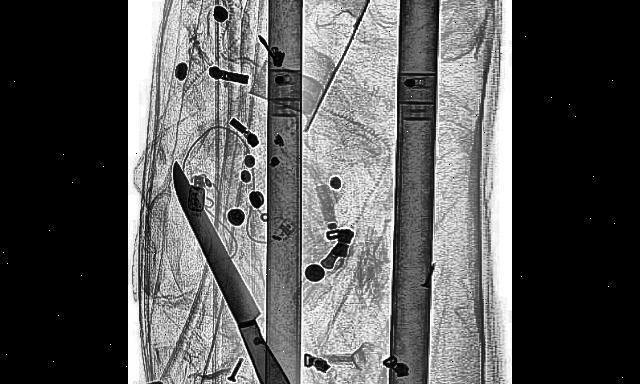Knife: (163, 151, 318, 384)
